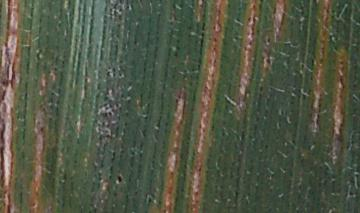tarspot: (114, 171, 125, 187)
